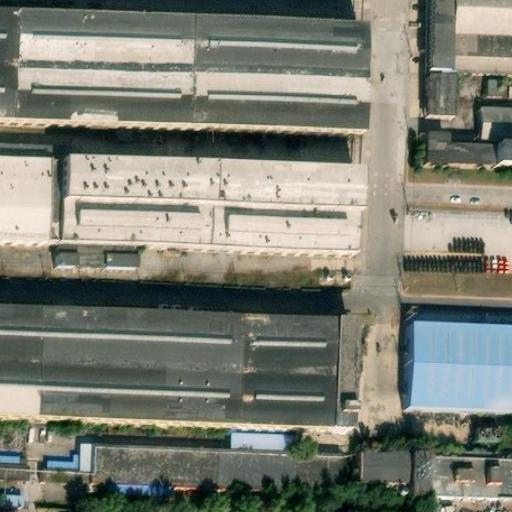building: (61, 155, 368, 253), (94, 445, 360, 491), (405, 325, 512, 414), (359, 446, 512, 495), (431, 0, 512, 71), (0, 150, 52, 242), (331, 311, 361, 427), (422, 131, 491, 165), (429, 69, 459, 114), (229, 432, 292, 450), (482, 104, 512, 141), (46, 452, 80, 471), (0, 488, 25, 509), (487, 77, 512, 97), (104, 253, 139, 266), (79, 444, 95, 472), (495, 142, 512, 164), (56, 251, 78, 265)
